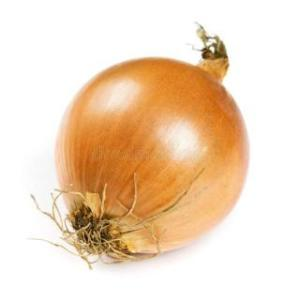onion: (56, 47, 255, 259)
